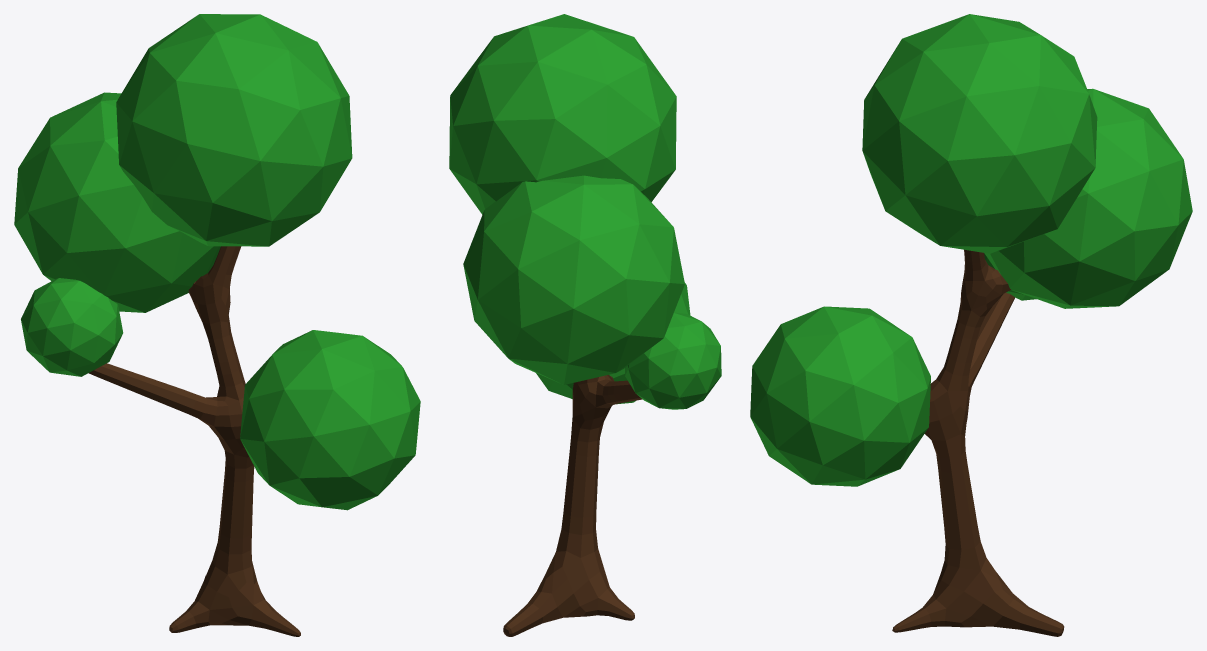
File: FlatTreeModel01_EmCoo.fbx
3 views of the same model, side by side, from view 1: azimuth 30°, elevation 25°; view 2: azimuth 150°, elevation 25°; view 3: azimuth 270°, elevation 25° (orthographic). The views are drawn at different scales.
Parts seen in each view (by area): view 1: 1_tree; view 2: 1_tree; view 3: 1_tree.
Boxes of the visible parts, x1,y1,x2,y2 form: 1_tree: (14,14,420,636); 1_tree: (449,14,721,636); 1_tree: (750,14,1192,636).
Bounding box in the file's own units: 269 × 535 × 356.
